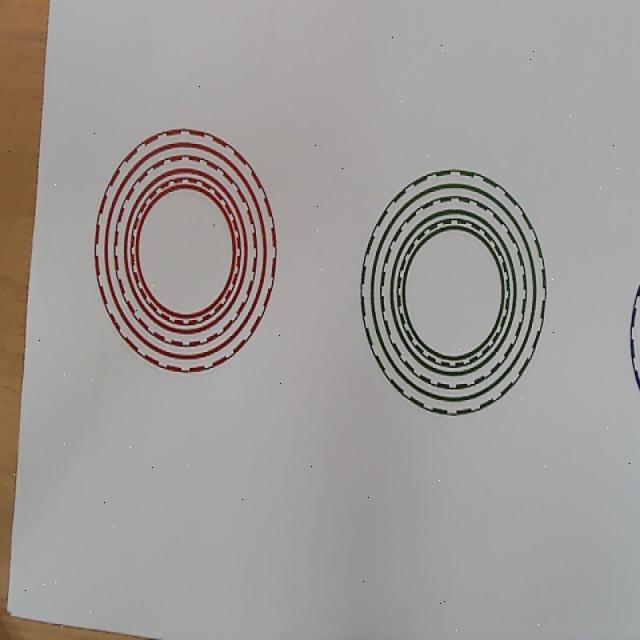g: (360, 168, 548, 418)
red-green-blue: (94, 126, 278, 373)
